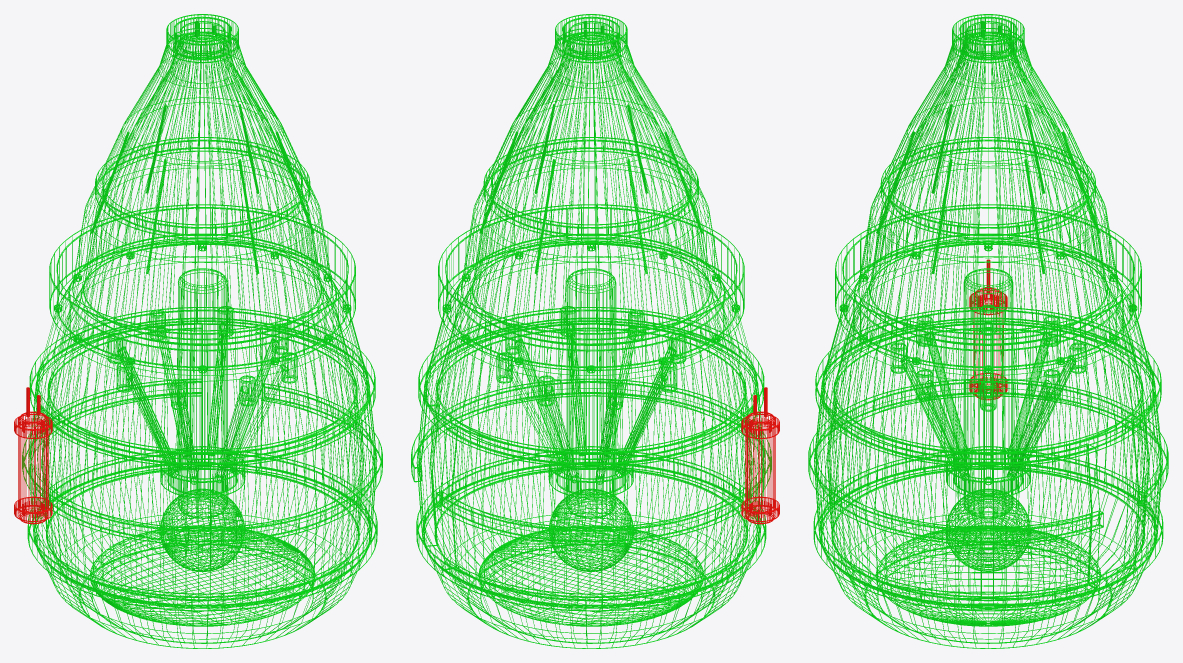
The model's file is shield-x40-highlight-power-monitoring.glb.
The picture shows the model from 3 angles, left to right: view 1: azimuth 30°, elevation 25°; view 2: azimuth 150°, elevation 25°; view 3: azimuth 270°, elevation 25°; orthographic projection.
Visible parts, largest first — view 1: chassis technical wire, generator-and-broadcast-system technical wire, power-monitoring technical wire, power-input technical wire; view 2: chassis technical wire, generator-and-broadcast-system technical wire, power-monitoring technical wire, power-input technical wire; view 3: chassis technical wire, generator-and-broadcast-system technical wire, power-input technical wire, power-monitoring technical wire.
Boxes of the visible parts, x1,y1,x2,y2 form: chassis technical wire: [22, 28, 382, 648]; generator-and-broadcast-system technical wire: [107, 268, 297, 571]; power-monitoring technical wire: [14, 387, 52, 524]; power-input technical wire: [166, 14, 238, 63]; chassis technical wire: [411, 28, 771, 648]; generator-and-broadcast-system technical wire: [496, 268, 686, 571]; power-monitoring technical wire: [741, 387, 779, 524]; power-input technical wire: [555, 14, 627, 63]; chassis technical wire: [808, 28, 1168, 648]; generator-and-broadcast-system technical wire: [890, 268, 1086, 571]; power-input technical wire: [952, 14, 1024, 63]; power-monitoring technical wire: [969, 259, 1007, 400].
Bounding box in the file's own units: 2.24 × 3.58 × 2.05.
